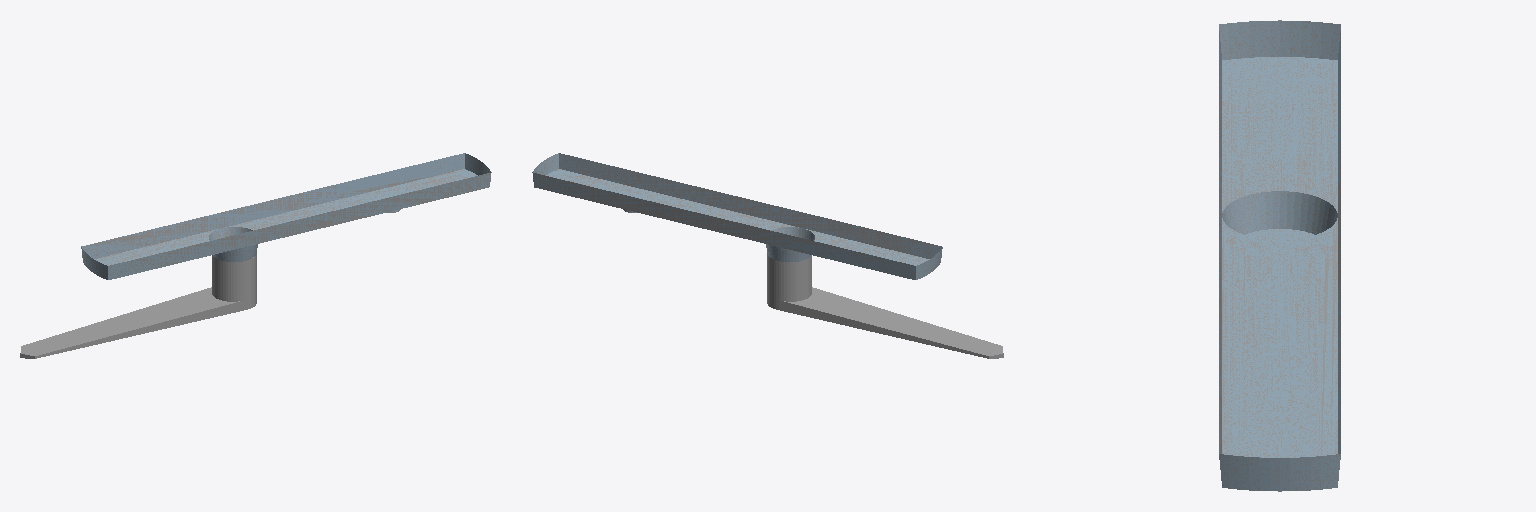
The robot description file, URDF, robot "window":
<robot name="window">
	<link name="base" />
	<link name="link_0">
		<visual name="out-frame">
			<origin xyz="0 0 0" />
			<geometry>
				<mesh filename="texture_dae/untitled.dae" scale="0.5 0.5 0.5" />
			</geometry>
		</visual>
		<collision>
			<origin xyz="0 0 0" />
			<geometry>
				<mesh filename="texture_dae/untitled.dae" scale="0.5 0.5 0.5" />
			</geometry>
		</collision>
	</link>
	<joint name="joint_0" type="fixed">
		<origin rpy="1.570796326794897 0 -1.570796326794897" xyz="0 0 0" />
		<child link="link_0" />
		<parent link="base" />
	</joint>
	<link name="link_1">
		<visual name="surf-board">
			<origin xyz="0.30546158315543975 -0.5833843402065071 0" />
			<geometry>
				<mesh filename="texture_dae/untitled1.dae" scale="0.5 0.5 0.5" />
			</geometry>
		</visual>
		<collision>
			<origin xyz="0.30546158315543975 -0.5833843402065071 0" />
			<geometry>
				<mesh filename="texture_dae/untitled1.dae" scale="0.5 0.5 0.5" />
			</geometry>
		</collision>
	</link>
	<joint name="joint_1" type="revolute">
		<origin xyz="-0.30546158315543975 0.5833843402065071 0" />
		<axis xyz="0 -1 0" />
		<child link="link_1" />
		<parent link="link_0" />
		<limit lower="0" upper="1.5079644737231006" />
	</joint>
	<link name="link_2">
		<visual name="handle">
			<origin xyz="0 0 0" />
			<geometry>
				<mesh filename="texture_dae/9969536-handle.dae" scale="0.9842519803988127 0.9842519803988127 0.9842519803988127" />
			</geometry>
		</visual>
		<collision>
			<origin xyz="0 0 0" />
			<geometry>
				<mesh filename="texture_dae/9969536-handle.dae" scale="0.9842519803988127 0.9842519803988127 0.9842519803988127" />
			</geometry>
		</collision>
	</link>
	<joint name="joint_2" type="revolute">
		<origin xyz="0 0 0" />
		<child link="link_2" />
		<parent link="link_3" />
		<axis xyz="0 0 1" />
		<limit lower="0" upper="0" />
	</joint>
	<link name="link_3">
		<visual name="lock">
			<origin xyz="0 0 0" />
			<geometry>
				<mesh filename="texture_dae/9969536-lock.dae" scale="0.9842519803988127 0.9842519803988127 0.9842519803988127" />
			</geometry>
		</visual>
		<collision>
			<origin xyz="0 0 0" />
			<geometry>
				<mesh filename="texture_dae/9969536-lock.dae" scale="0.9842519803988127 0.9842519803988127 0.9842519803988127" />
			</geometry>
		</collision>
	</link>
	<joint name="joint_3" type="fixed">
		<origin xyz="0.57960002006893 -0.5833843402065071 0.028971898873196622" />
		<child link="link_3" />
		<parent link="link_1" />
	</joint>
</robot>

--- What the picture shows (computed from the rendered views, not written in the file) ---
3 views of the same robot in one strip: view 1: azimuth 30°, elevation 25°; view 2: azimuth 150°, elevation 25°; view 3: azimuth 270°, elevation 25° (orthographic).
Robot: window — 5 links, 4 joints (2 revolute, 2 fixed); root link base; default pose: every joint at zero.
Visible links, largest first — view 1: link_3, link_2; view 2: link_3, link_2; view 3: link_3.
Link boxes in pixels (box(x1,y1,x2,y2)): link_3: box(81, 153, 491, 279); link_2: box(20, 253, 256, 358); link_3: box(532, 153, 942, 279); link_2: box(767, 253, 1003, 358); link_3: box(1219, 20, 1340, 491).
Size in the robot's own frame: 0.2969 by 0.0297 by 0.0516 metres.
Meshes: 4 distinct files referenced, 2 mesh visuals loaded (2 Collada DAE); not drawn: 2 (reference not matched to a file when rendering).
